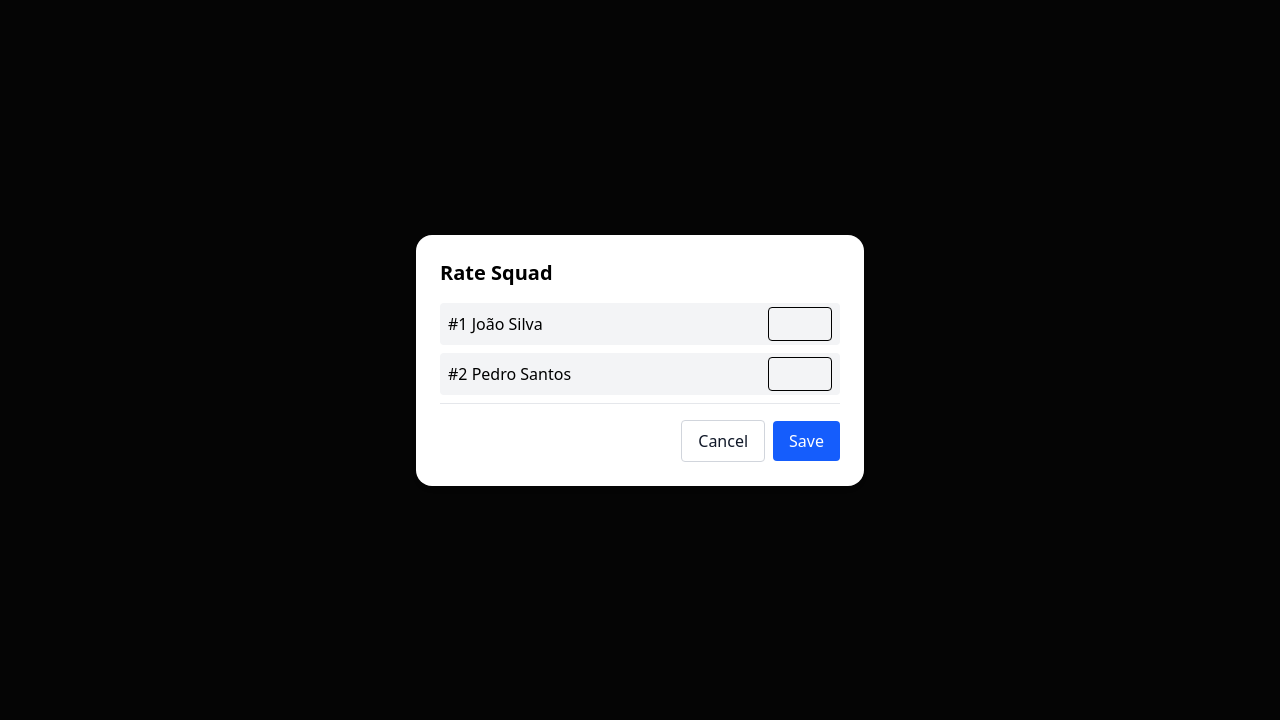
Test: shows an inline error and does not close when saving fails
Type "5" into the number field named "Rate #1 João Silva" at (800, 324), box left=768, top=306, right=832, bottom=340
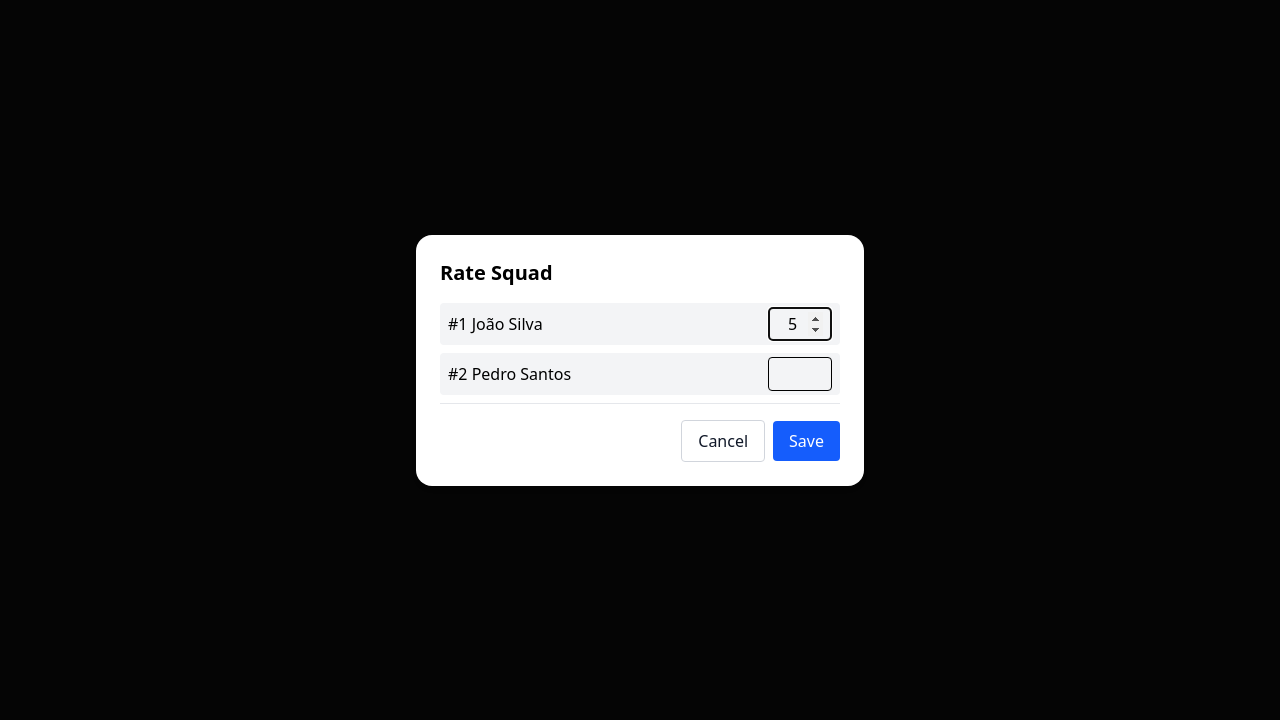
Click the button "Save" at (807, 440), box left=773, top=420, right=840, bottom=460
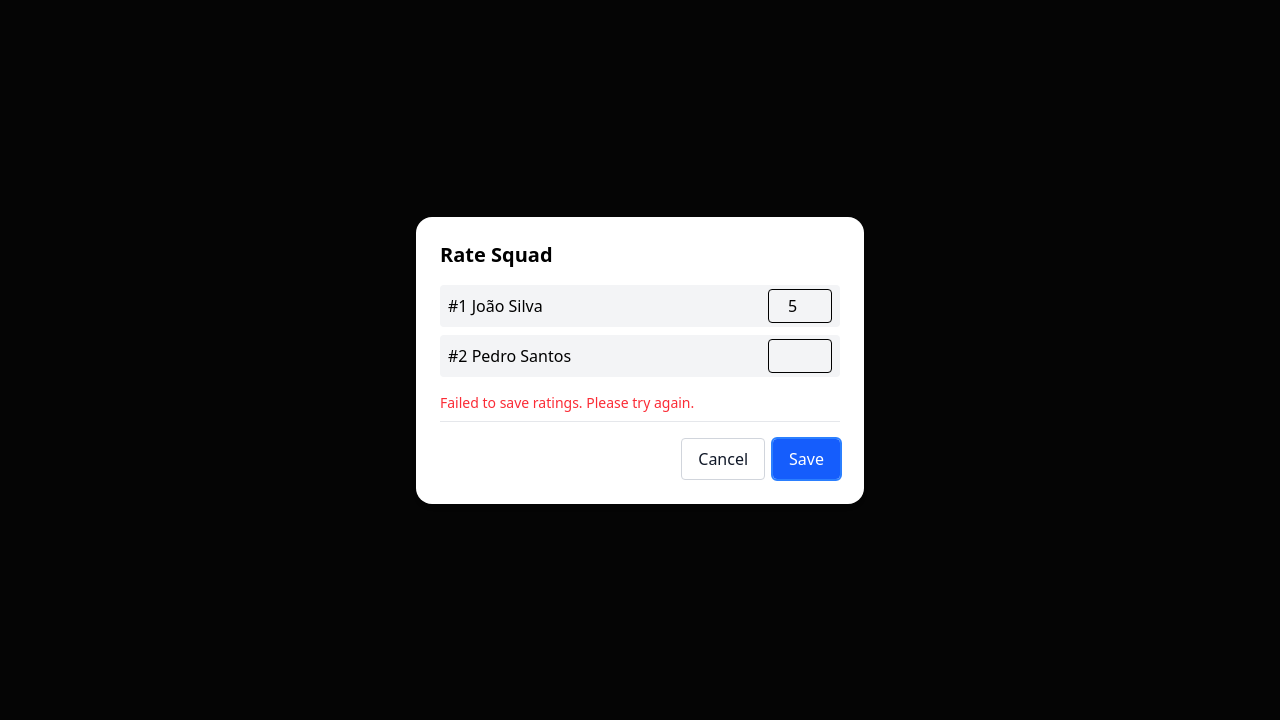
Result: the text "Failed to save ratings. Please try again." is shown at left=440, top=392, right=694, bottom=412
